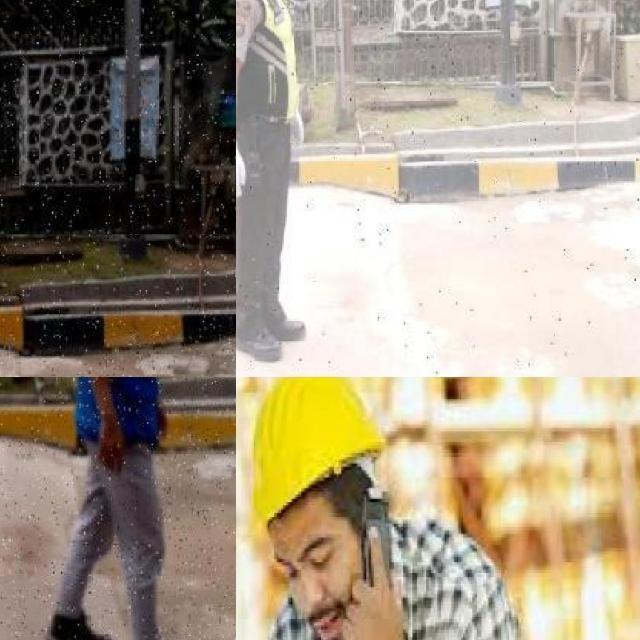apron: (236, 134, 250, 203), (289, 102, 305, 156)
